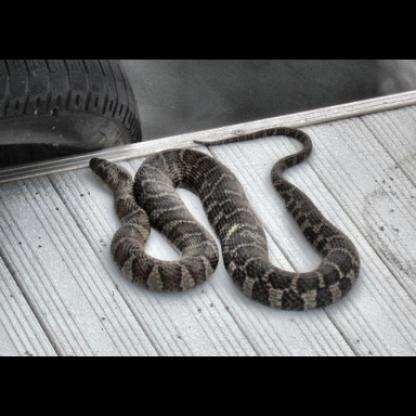Snake: (7, 120, 406, 359)
